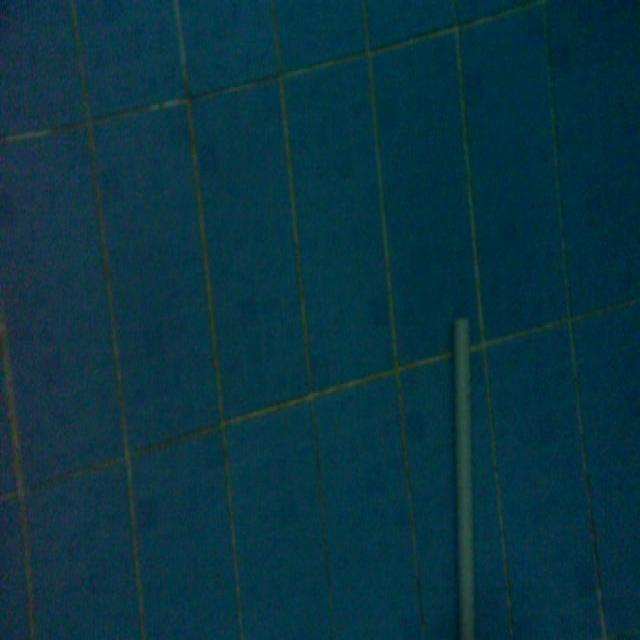Cube: (450, 313, 477, 636)
